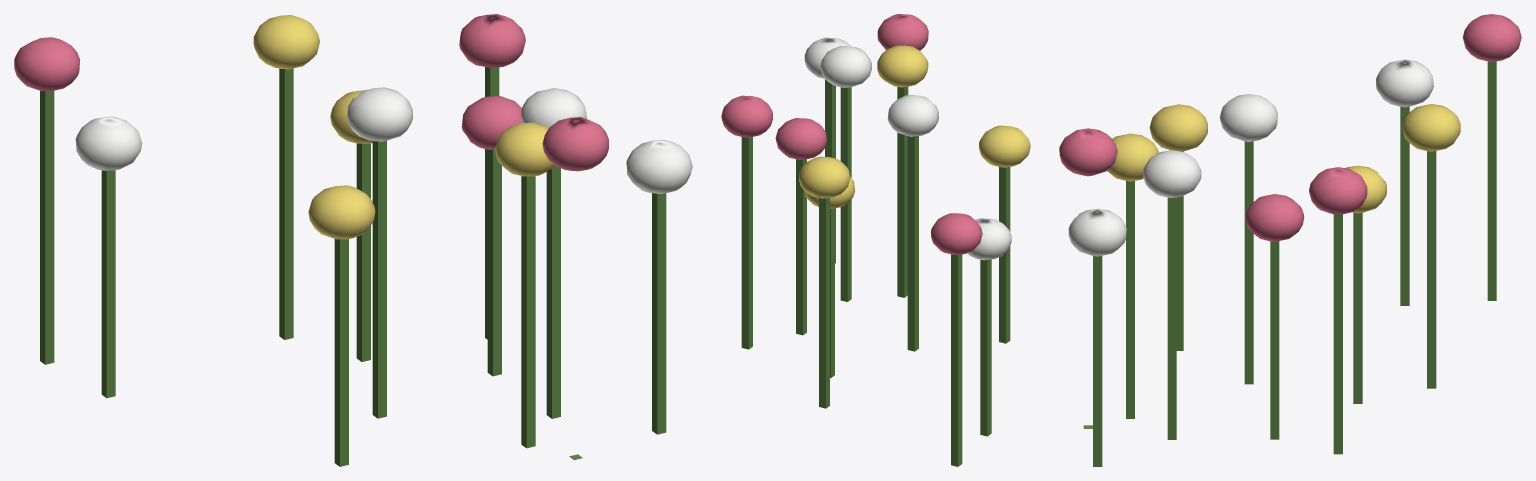
File: f19-flower-meadow-patch.lod1.glb
3 views of the same model, side by side, from view 1: azimuth 30°, elevation 25°; view 2: azimuth 150°, elevation 25°; view 3: azimuth 270°, elevation 25° (orthographic). The views are drawn at different scales.
Visible parts, largest first — view 1: part0, part1, part8, part6, part3, part12, part2, part4, part11, part10, part5, part9 (+1 smaller); view 2: part0, part2, part1, part4, part9, part5, part10, part11, part3, part8, part6, part12 (+1 smaller); view 3: part0, part11, part9, part12, part2, part8, part4, part6, part3, part5, part1, part10 (+1 smaller).
Part boxes in pixels (bbox=[...]): part0: bbox=[40, 67, 666, 466]; part1: bbox=[308, 185, 375, 239]; part8: bbox=[542, 117, 608, 171]; part6: bbox=[75, 116, 142, 170]; part3: bbox=[347, 87, 412, 141]; part12: bbox=[626, 139, 692, 193]; part2: bbox=[459, 14, 525, 67]; part4: bbox=[253, 15, 319, 69]; part11: bbox=[14, 37, 79, 91]; part10: bbox=[495, 122, 554, 176]; part5: bbox=[461, 95, 521, 149]; part9: bbox=[521, 88, 586, 127]; part0: bbox=[741, 79, 1010, 466]; part2: bbox=[721, 95, 772, 137]; part1: bbox=[979, 125, 1030, 167]; part4: bbox=[799, 156, 850, 198]; part9: bbox=[820, 46, 871, 87]; part5: bbox=[775, 118, 826, 159]; part10: bbox=[877, 45, 928, 87]; part11: bbox=[931, 213, 982, 255]; part3: bbox=[887, 95, 938, 136]; part8: bbox=[877, 14, 928, 50]; part6: bbox=[967, 218, 1011, 260]; part12: bbox=[804, 37, 850, 78]; part0: bbox=[1083, 61, 1496, 466]; part11: bbox=[1462, 14, 1521, 61]; part9: bbox=[1143, 150, 1201, 197]; part12: bbox=[1068, 208, 1126, 256]; part2: bbox=[1309, 167, 1367, 214]; part8: bbox=[1059, 128, 1117, 176]; part4: bbox=[1402, 104, 1460, 151]; part6: bbox=[1376, 59, 1433, 107]; part3: bbox=[1219, 94, 1277, 141]; part5: bbox=[1245, 194, 1304, 241]; part1: bbox=[1149, 104, 1207, 151]; part10: bbox=[1107, 133, 1159, 181].
Bounding box in the file's own units: 688 × 498 × 705.
